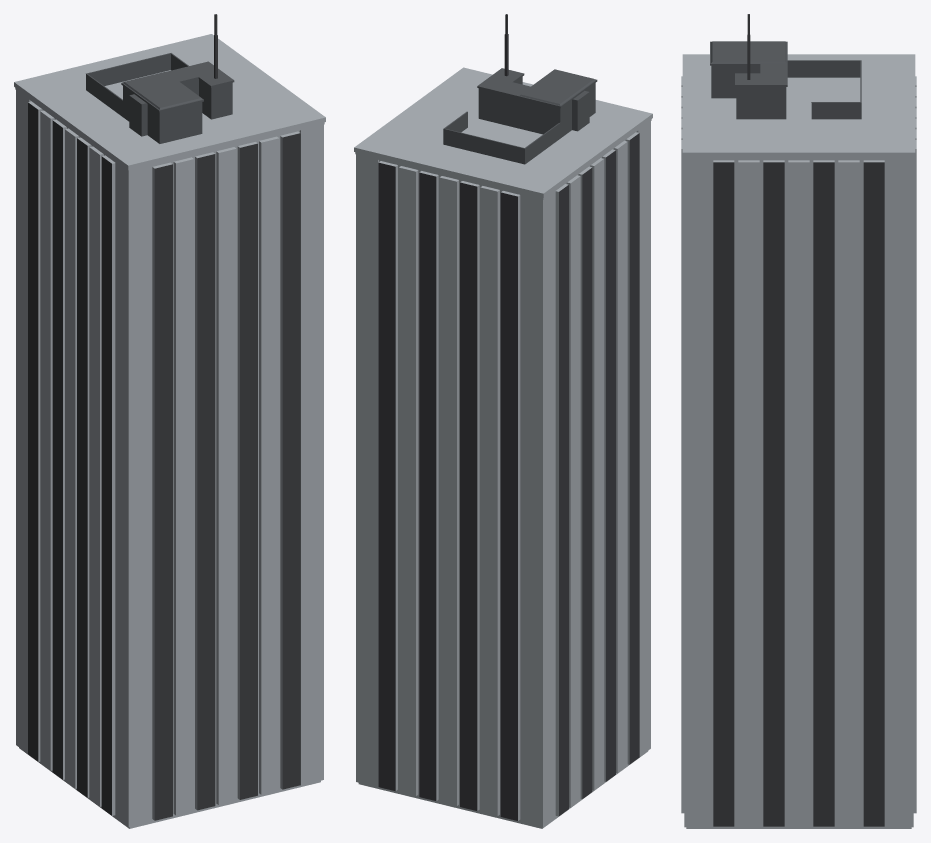
The model's file is talo4.fbx.
3 views of the same model, side by side, from view 1: azimuth 30°, elevation 25°; view 2: azimuth 150°, elevation 25°; view 3: azimuth 270°, elevation 25° (orthographic). The views are drawn at different scales.
Visible parts, largest first — view 1: talo4; view 2: talo4; view 3: talo4.
Boxes of the visible parts, x1,y1,x2,y2 form: talo4: [14, 14, 325, 828]; talo4: [354, 14, 652, 828]; talo4: [681, 14, 916, 828].
Size of the model in its own units: 161 by 589 by 161.
